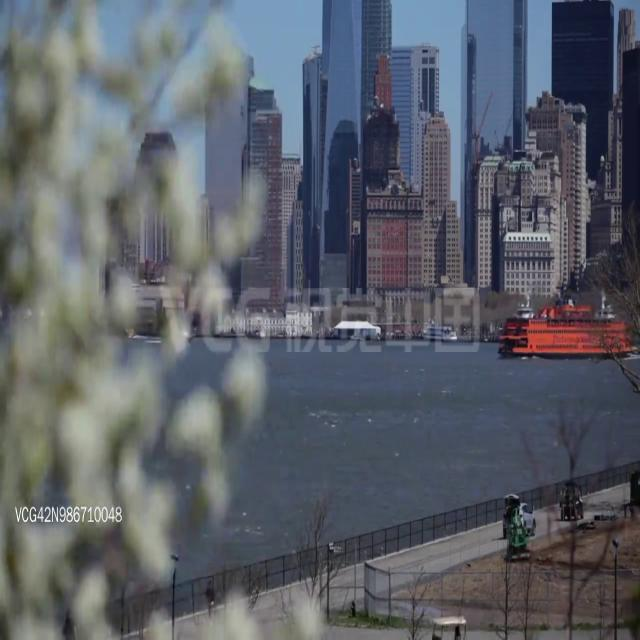passenger ship: (498, 296, 628, 359)
